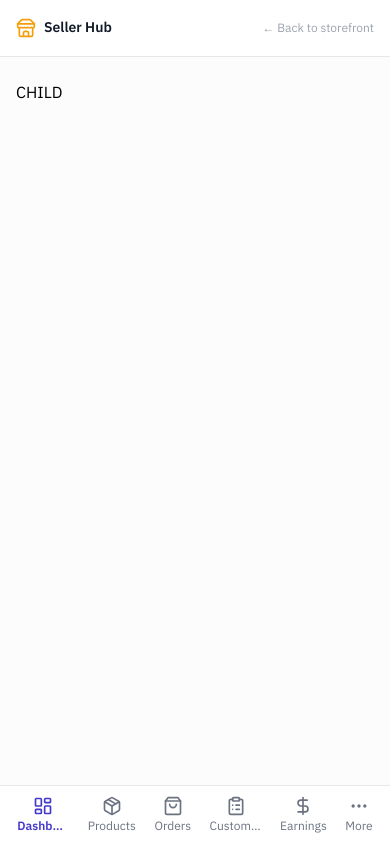
Test: Seller nav — Credits + mobile More sheet › every one of the 9 destinations is reachable on mobile (primary tabs + sheet)
Click the button "More": [359, 815] box top-left (337, 790), bottom-right (381, 840)
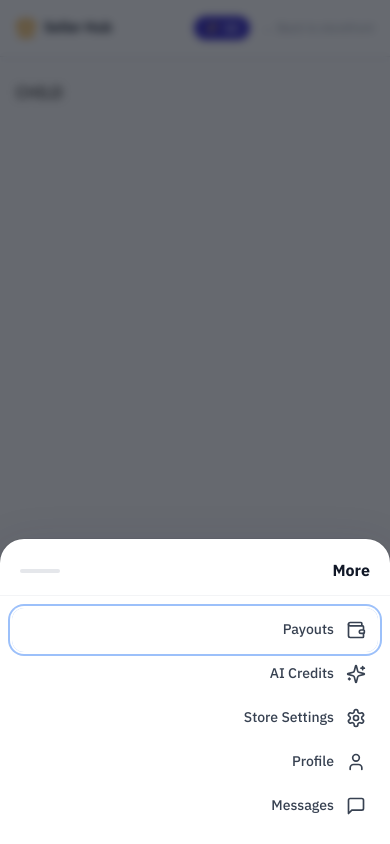
Result: the dialog is shown at top-left (0, 539), bottom-right (389, 843)
